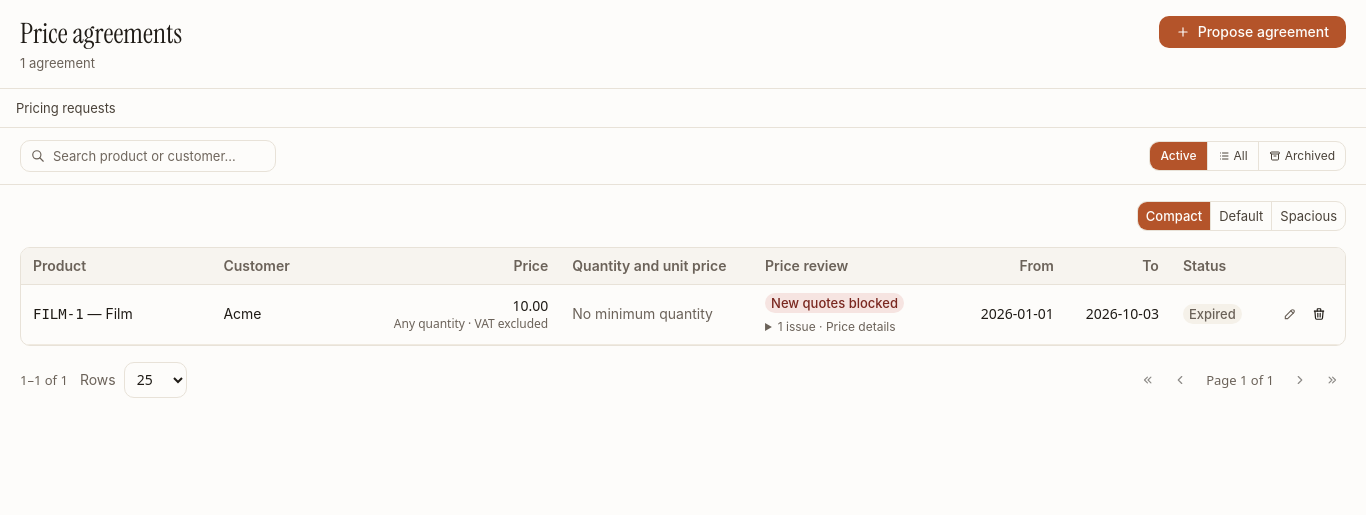
keeps pricing blockers visible while disclosing the full warning only on demand
Expected: the text "New quotes blocked" is shown, [765,293,904,313]
Click the heading "1 issue · Price details" at (837, 326), box [778,319,896,334]
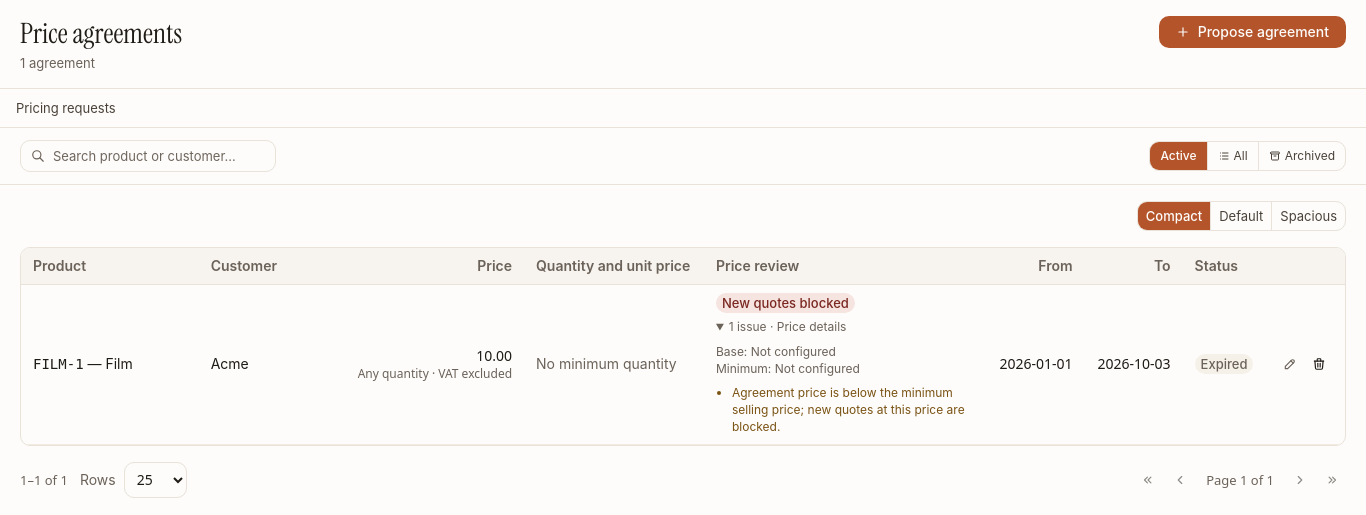
Expected: the list item "Agreement price is below the minimum selling price; new quotes at this price are blocked." is shown, [732,385,965,434]
